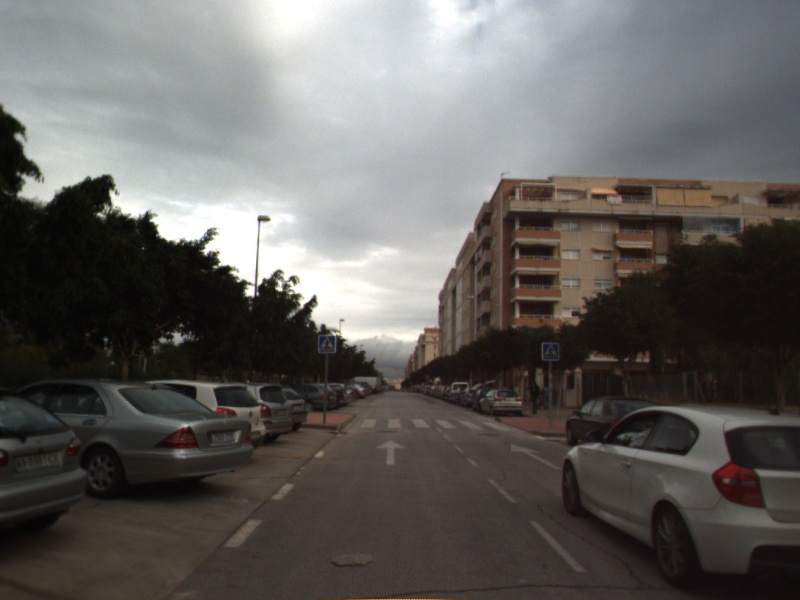STRAIGHT: (508, 442, 564, 471), (374, 437, 408, 466)
